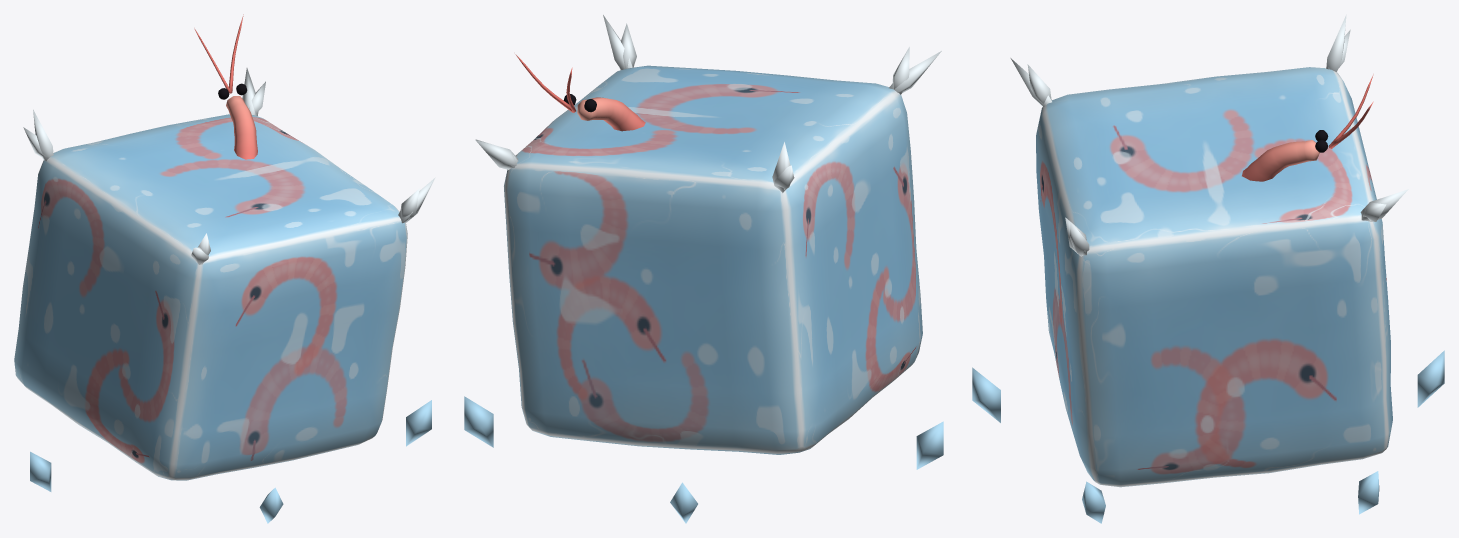
Rendered from FrozenKrill.glb.
3 renders of one model, left to right at view 1: azimuth 30°, elevation 25°; view 2: azimuth 150°, elevation 25°; view 3: azimuth 270°, elevation 25°, orthographic. The views are drawn at different scales.
Visible parts, largest first — view 1: FrozenKrill; view 2: FrozenKrill; view 3: FrozenKrill.
Part boxes in pixels (<box>): FrozenKrill: <box>14,14,435,523</box>; FrozenKrill: <box>464,15,943,523</box>; FrozenKrill: <box>972,14,1444,523</box>.
Size of the model in its own units: 0.9844 by 0.9412 by 1.01.
Materials: 1 (1 with a texture image).
